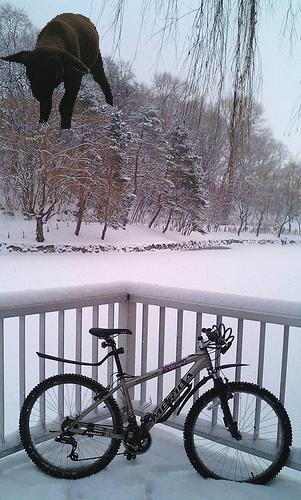tampered: (1, 14, 113, 129)
